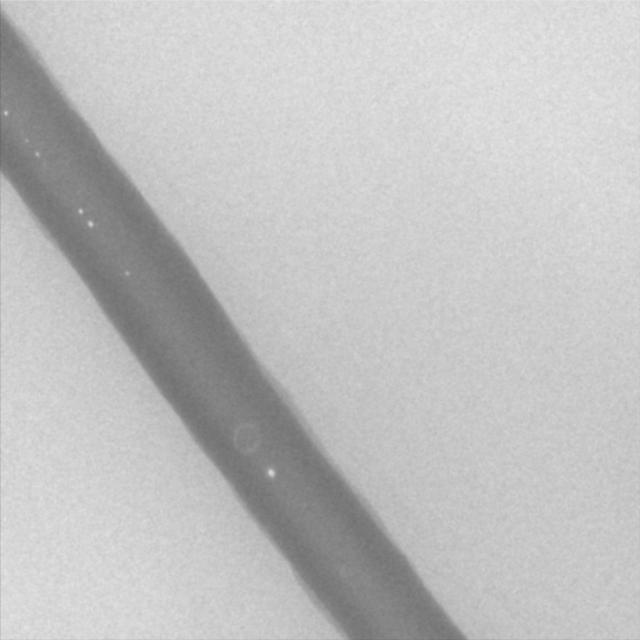air hole: (264, 464, 276, 480), (85, 219, 95, 230), (122, 267, 131, 279), (76, 205, 84, 214), (34, 150, 42, 158), (2, 107, 9, 116)
hollow bead: (232, 419, 263, 455)
